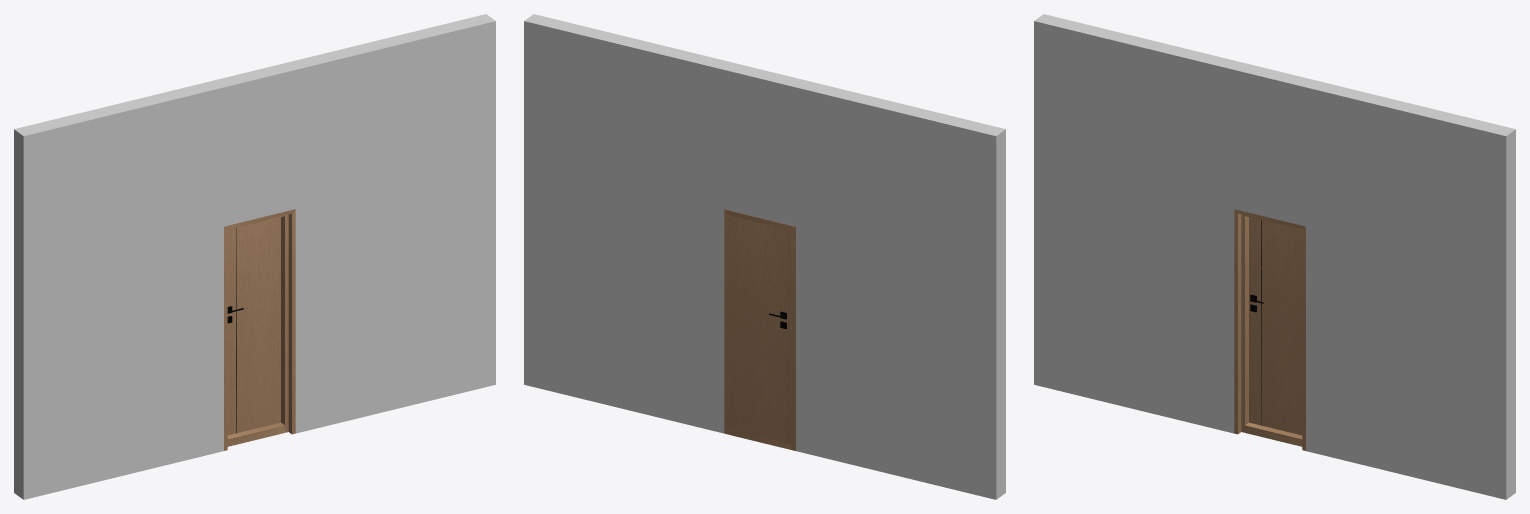
3 views of the same model, side by side, from view 1: azimuth 30°, elevation 25°; view 2: azimuth 150°, elevation 25°; view 3: azimuth 330°, elevation 25° (orthographic).
Visible parts, largest first — view 1: wall_, ABHAIMANYA_DOORS__3a_door, _3a_jamb, _3a_90_60_frame, _3a_threshold; view 2: wall_, ABHAIMANYA_DOORS__3a_door, _3a_90_60_frame; view 3: wall_, ABHAIMANYA_DOORS__3a_door, _3a_jamb, _3a_90_60_frame, _3a_threshold.
Boxes of the visible parts, x1=… form: wall_: x1=14, y1=14, x2=495, y2=499; ABHAIMANYA_DOORS__3a_door: x1=227, y1=217, x2=280, y2=435; _3a_jamb: x1=224, y1=209, x2=295, y2=450; _3a_90_60_frame: x1=227, y1=214, x2=288, y2=432; _3a_threshold: x1=227, y1=422, x2=284, y2=446; wall_: x1=524, y1=14, x2=1005, y2=499; ABHAIMANYA_DOORS__3a_door: x1=729, y1=215, x2=790, y2=444; _3a_90_60_frame: x1=724, y1=209, x2=795, y2=450; wall_: x1=1034, y1=14, x2=1515, y2=499; ABHAIMANYA_DOORS__3a_door: x1=1249, y1=217, x2=1302, y2=435; _3a_jamb: x1=1234, y1=209, x2=1305, y2=450; _3a_90_60_frame: x1=1241, y1=214, x2=1302, y2=432; _3a_threshold: x1=1245, y1=422, x2=1302, y2=446.
Size of the model in its own units: 3.96 by 2.92 by 0.179.
3 materials, 2 textured.
